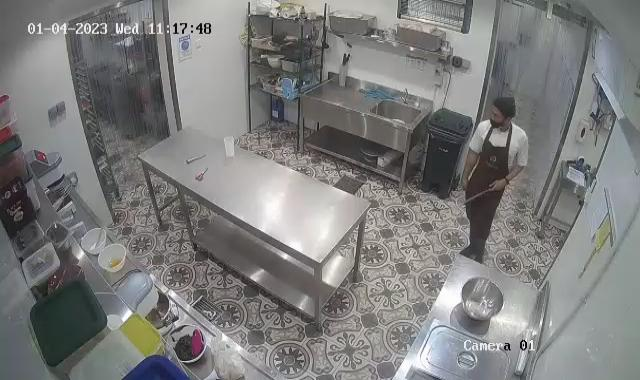no_hairnet: (492, 94, 518, 124)
